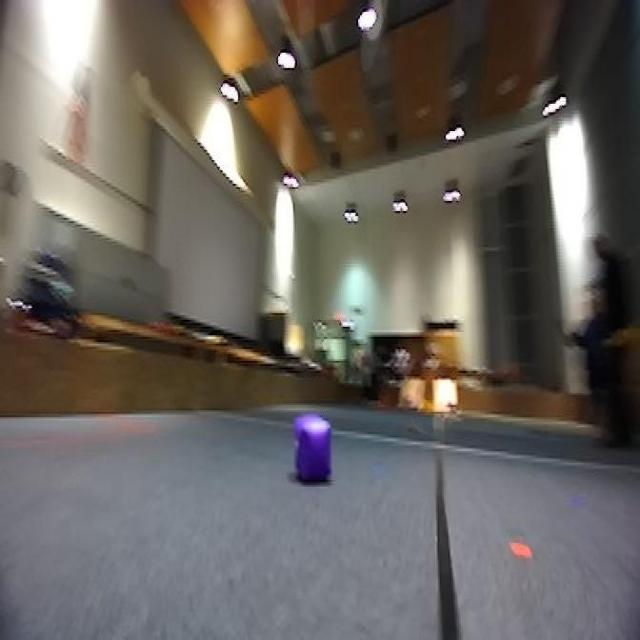frc_cube: (290, 414, 336, 488)
